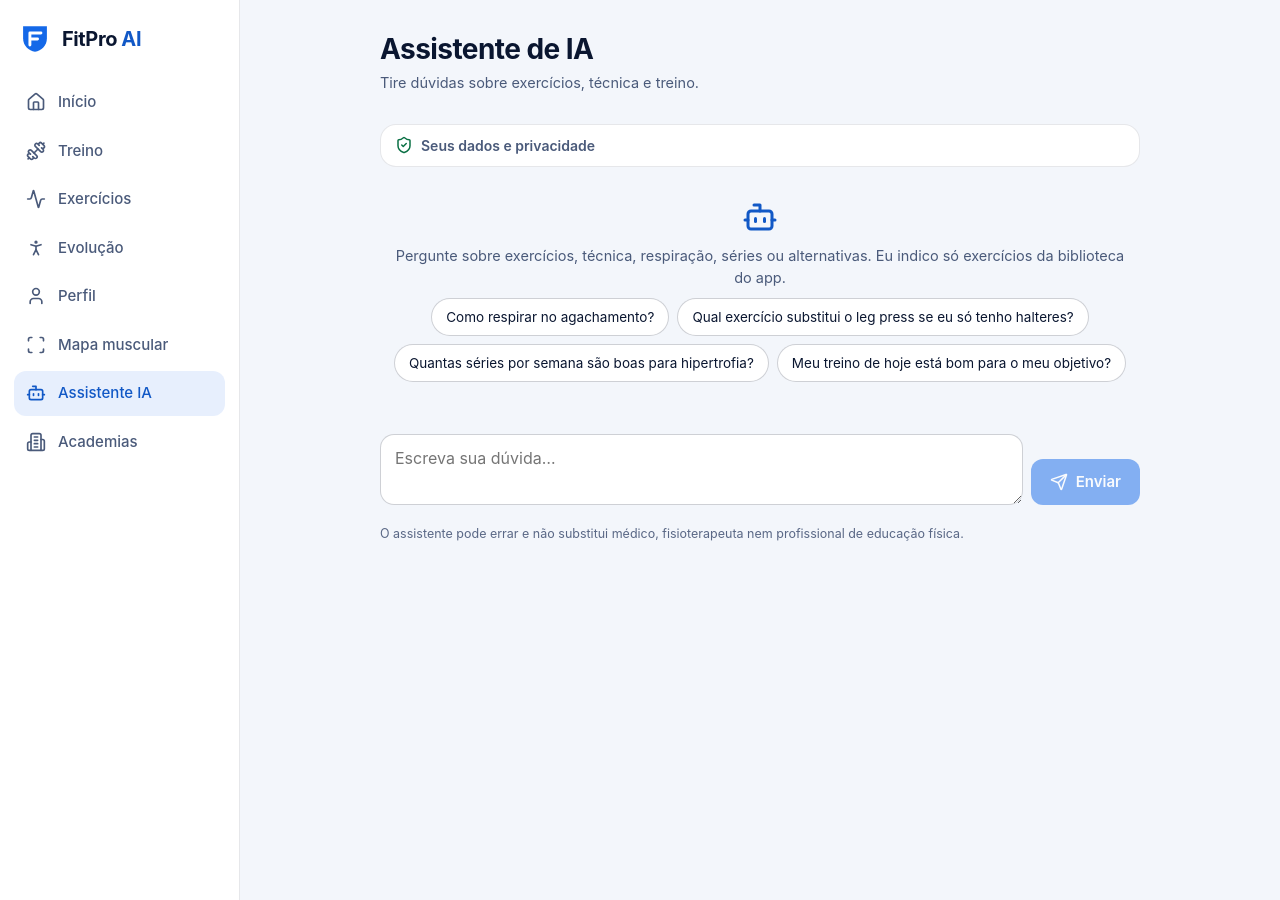
Scenario: assistente de IA › envia a pergunta com o token e mostra a resposta com link só para exercícios citados
Type "O que substitui o leg press?" into the text box named "Sua pergunta" at point(701, 470), box left=380, top=434, right=1023, bottom=505
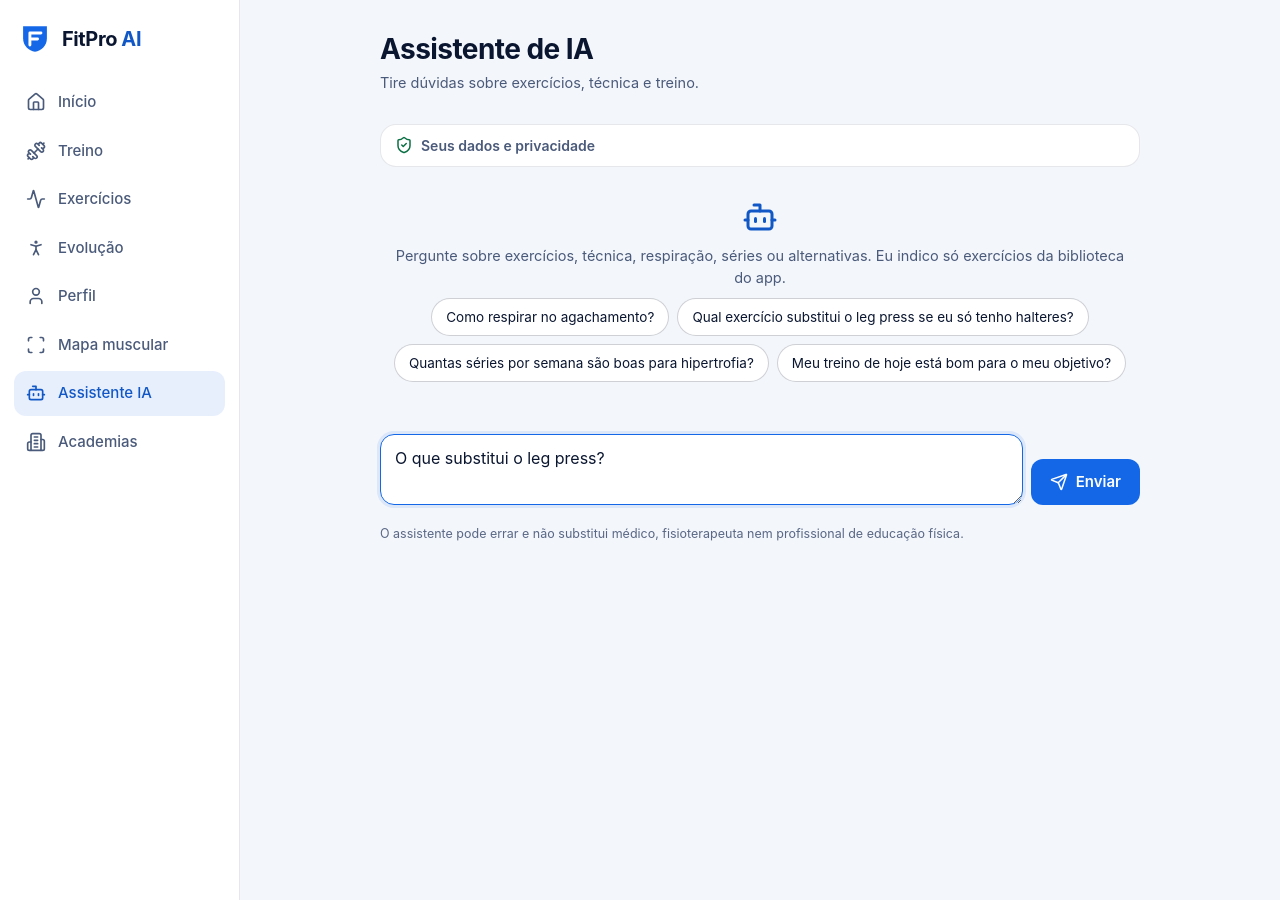
Click the button with aria-label "Enviar pergunta" at point(1085, 482), box left=1031, top=459, right=1140, bottom=505
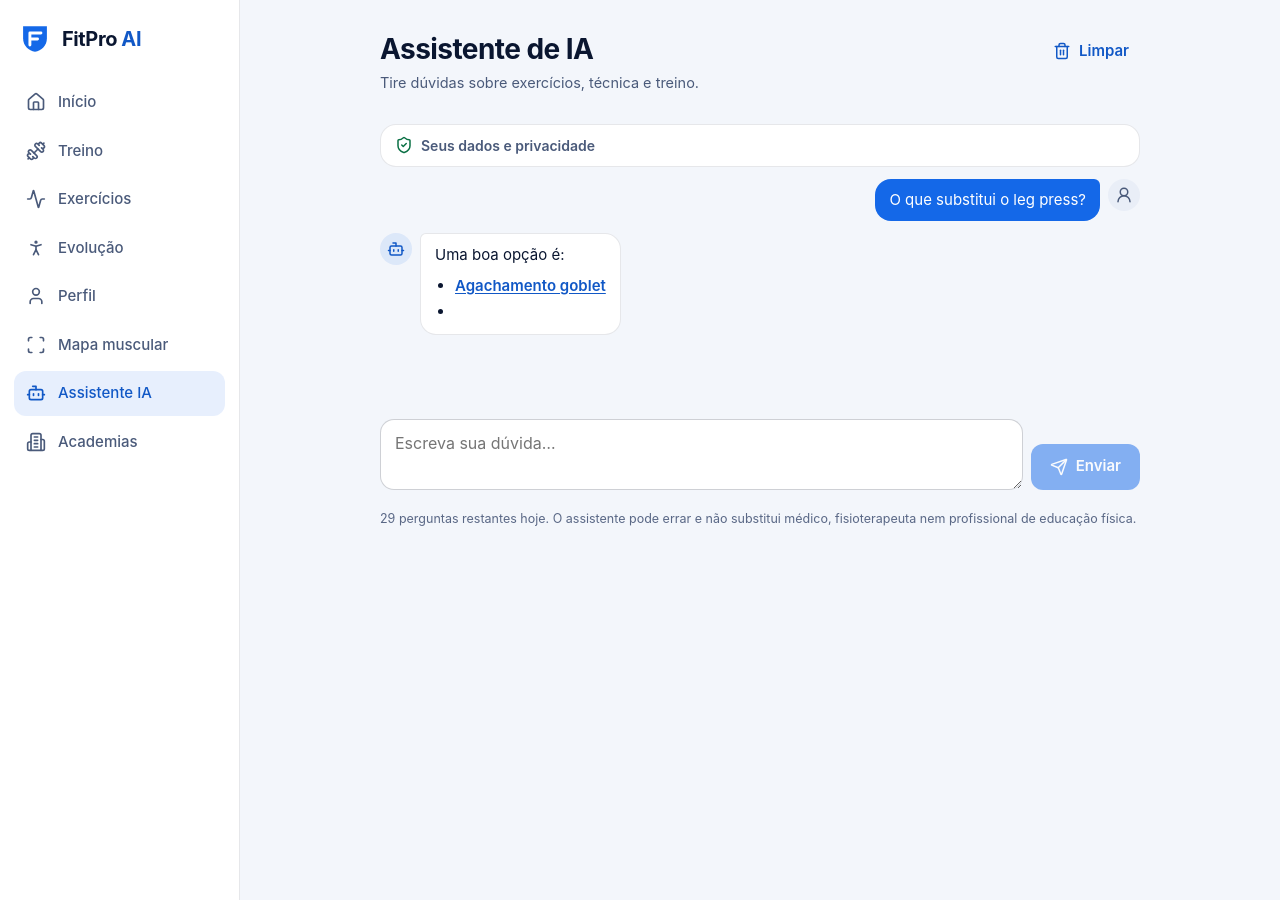
Expected: the text "29 perguntas restantes hoje" is shown, left=380, top=510, right=553, bottom=526
